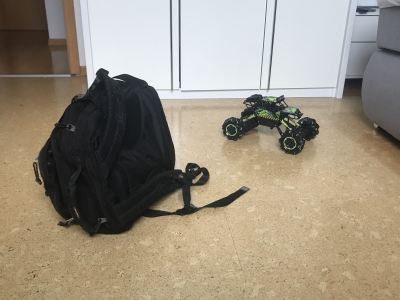remote control car: (219, 88, 322, 156)
